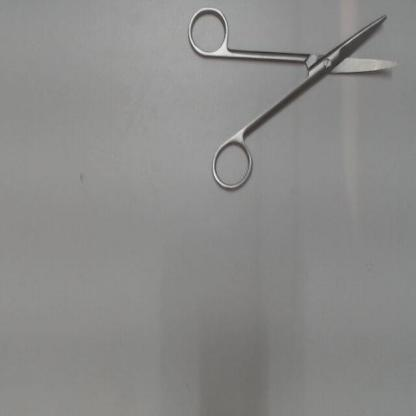Curved Mayo Scissors: (183, 4, 406, 200)
